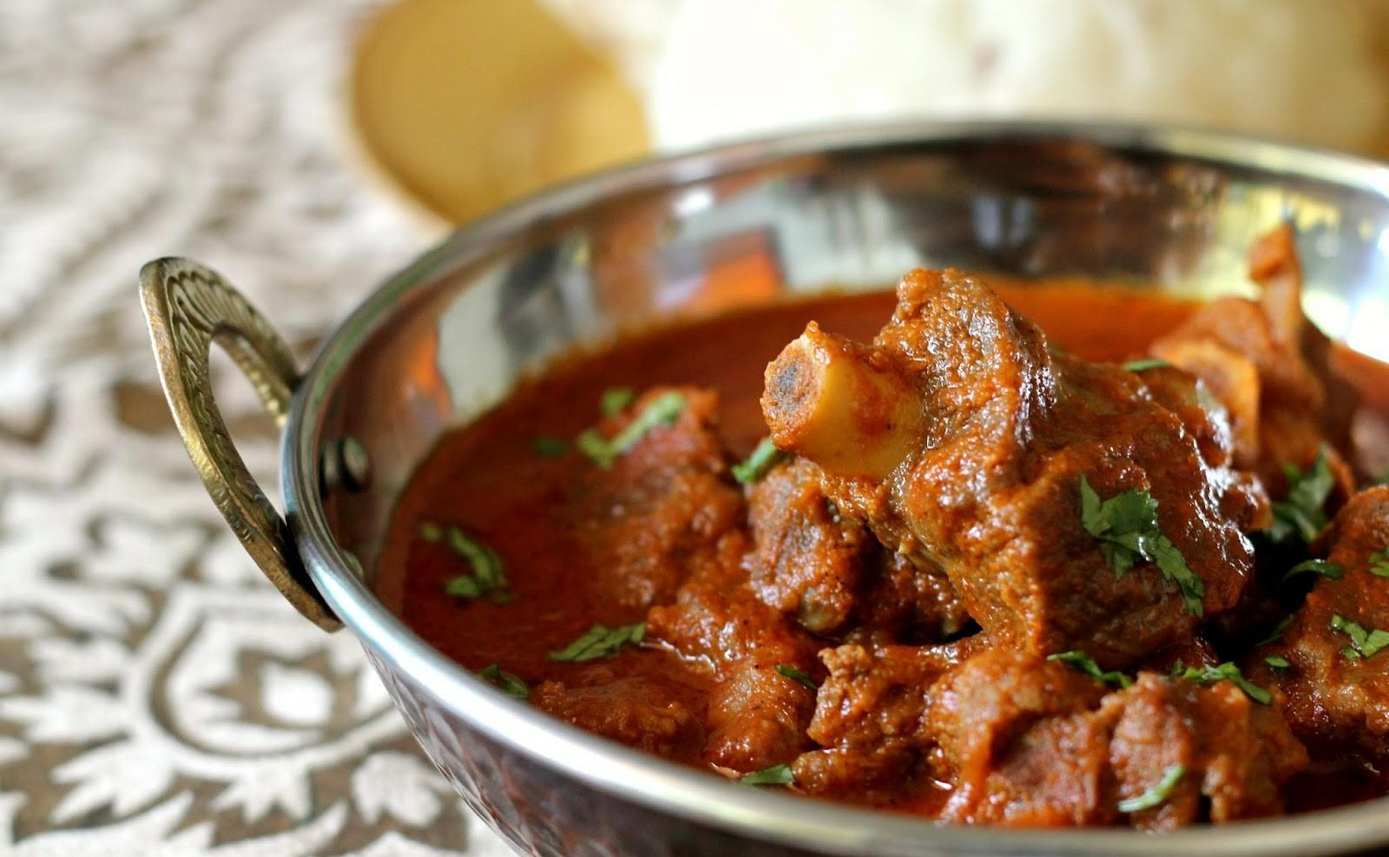MuttonCurry: (384, 219, 1389, 830)
